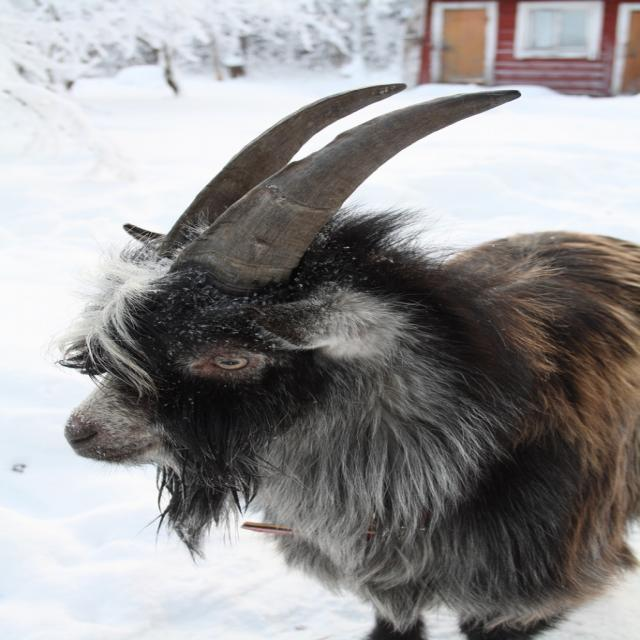Goat: (47, 82, 639, 640)
